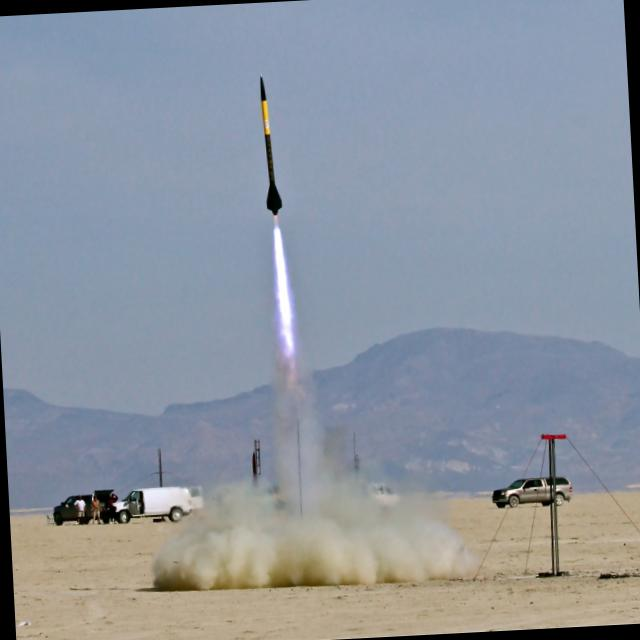rocket: (251, 64, 299, 341)
